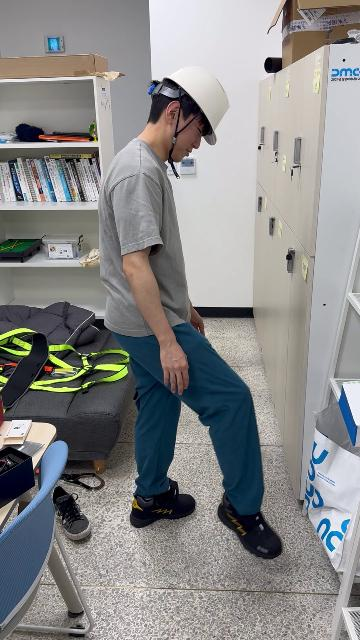helmet_worn: (162, 67, 229, 142)
shoe_not_worn: (51, 486, 92, 540)
shoe_worn: (218, 492, 281, 559), (129, 478, 196, 527)
vest_not_worn: (96, 147, 195, 333)
